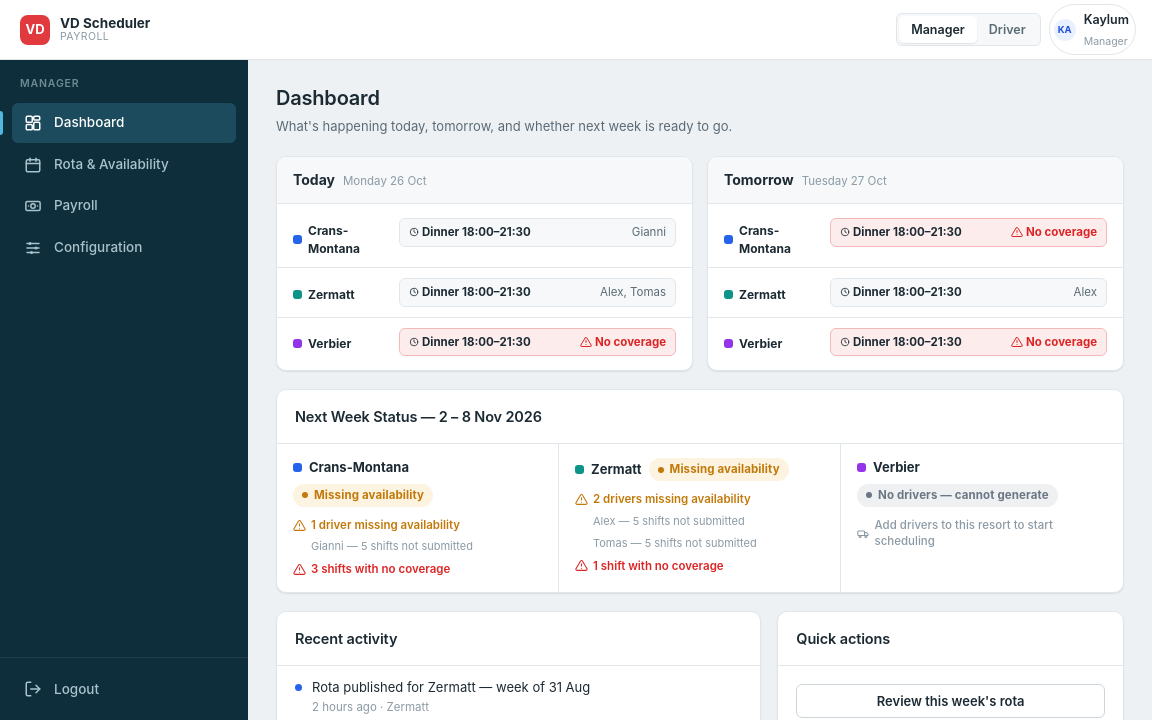
Test case: MyRotaPage (live Driver My Rota) › 20. a failed read shows an alert with a Retry, never the raw error -- and Retry recovers
Step 1. Click the tab "Driver" → [1007, 30], box [977, 16, 1038, 43]
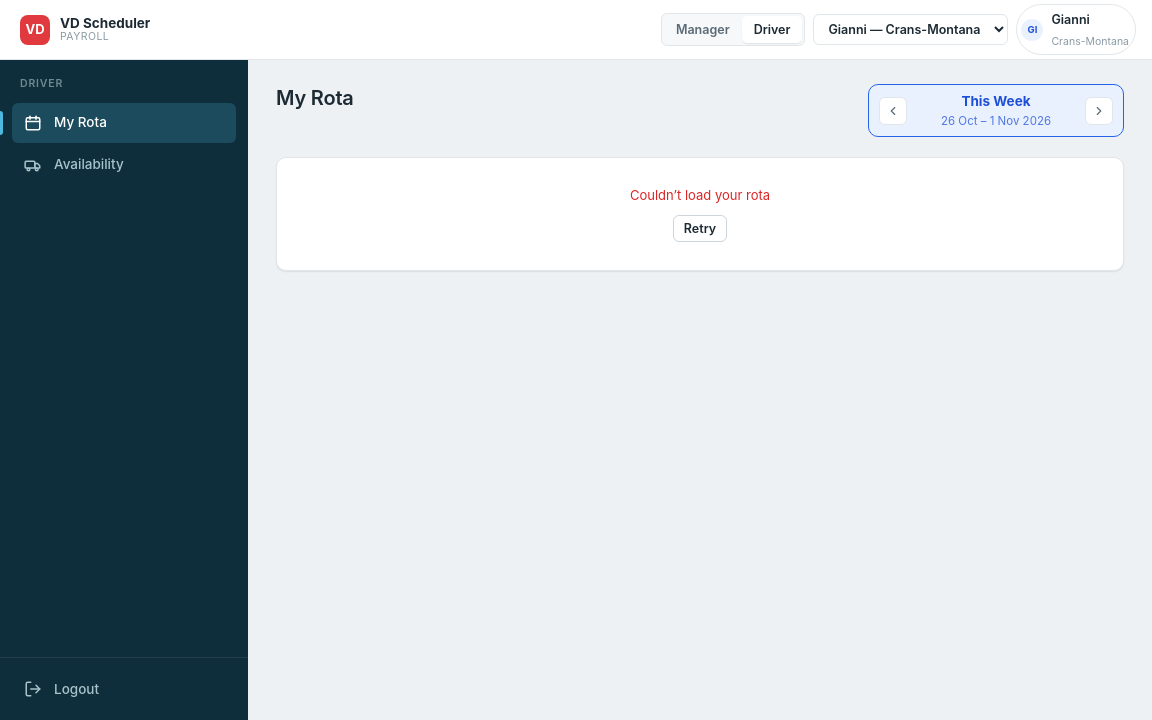
Result: the heading "My Rota" is shown at [276, 84, 354, 113]
Result: the message shows "Couldn’t load your rota" at [630, 187, 770, 203]
Step 2. Click the button "Retry" → [700, 229], box [673, 215, 727, 242]
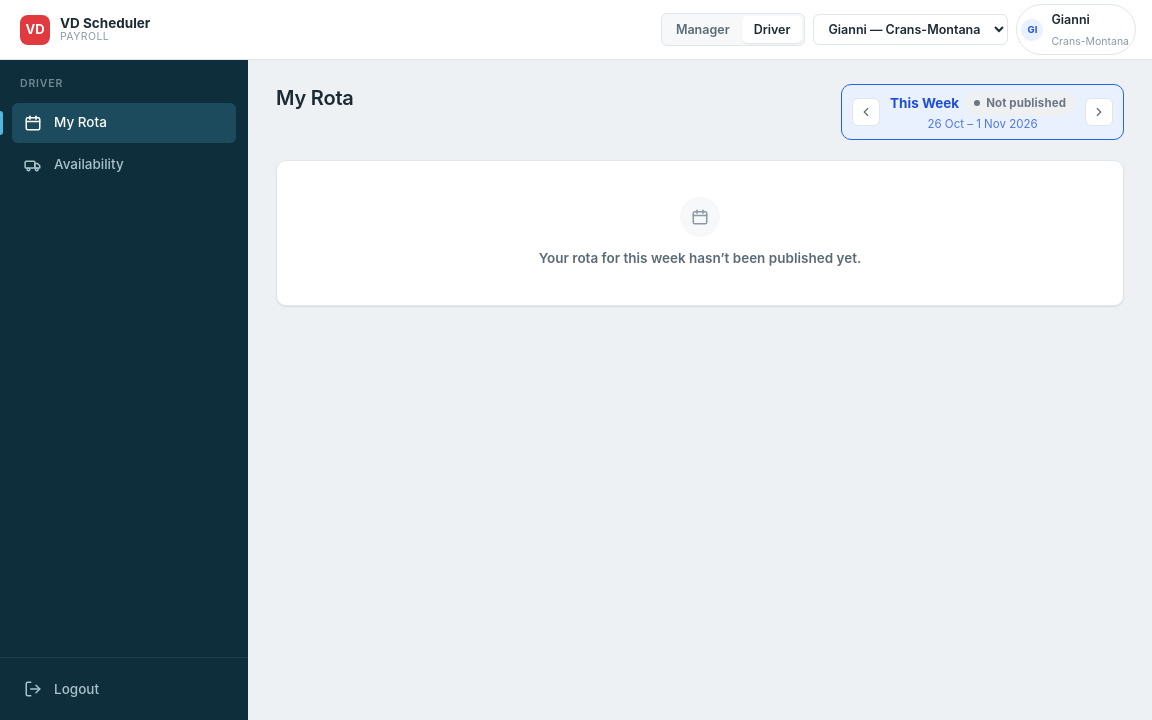
Result: the text "Your rota for this week hasn’t been published yet." is shown at [539, 249, 861, 269]
